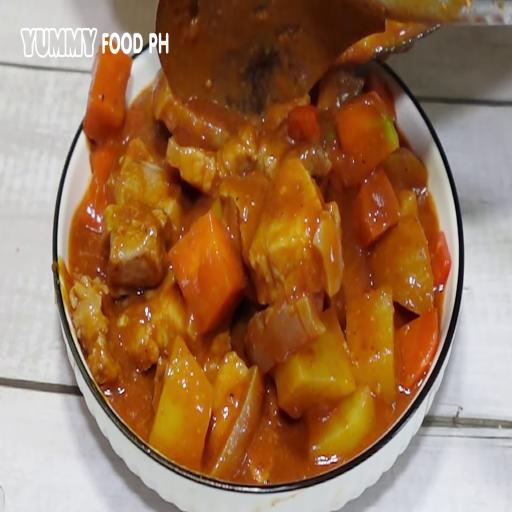pork caldereta: (58, 66, 462, 464)
